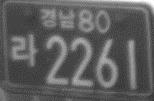0: (95, 8, 111, 34)
1: (126, 37, 140, 93)
2: (69, 36, 96, 89), (45, 33, 70, 86)
6: (97, 37, 119, 89)
8: (78, 7, 95, 33)
경남_O: (39, 6, 77, 31)
라: (9, 33, 38, 66)
